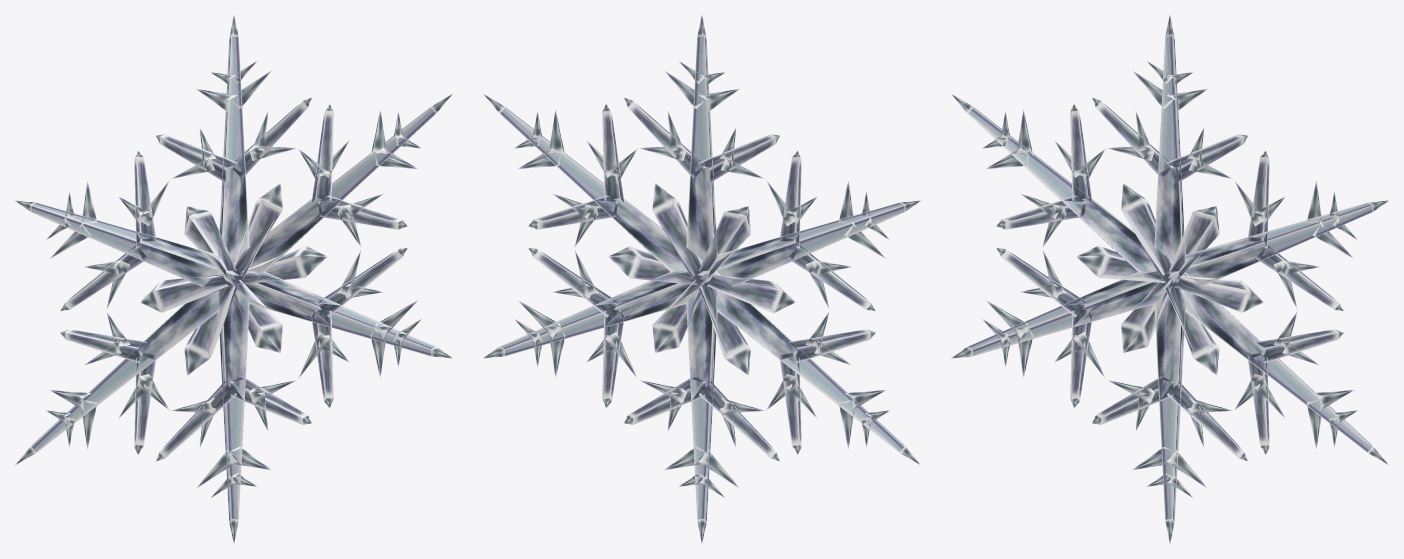
Rendered from ps2_save-icons_rawdanger.glb.
3 renders of one model, left to right at view 1: azimuth 30°, elevation 25°; view 2: azimuth 150°, elevation 25°; view 3: azimuth 330°, elevation 25°, orthographic.
Parts seen in each view (by area): view 1: icon.ico; view 2: icon.ico; view 3: icon.ico.
Part boxes in pixels (left/top/right/bottom): icon.ico: left=14, top=15, right=453, bottom=543; icon.ico: left=482, top=15, right=921, bottom=543; icon.ico: left=950, top=15, right=1389, bottom=543.
Size of the model in its own units: 4.29 by 4.95 by 0.4497.
1 material, 1 textured.
